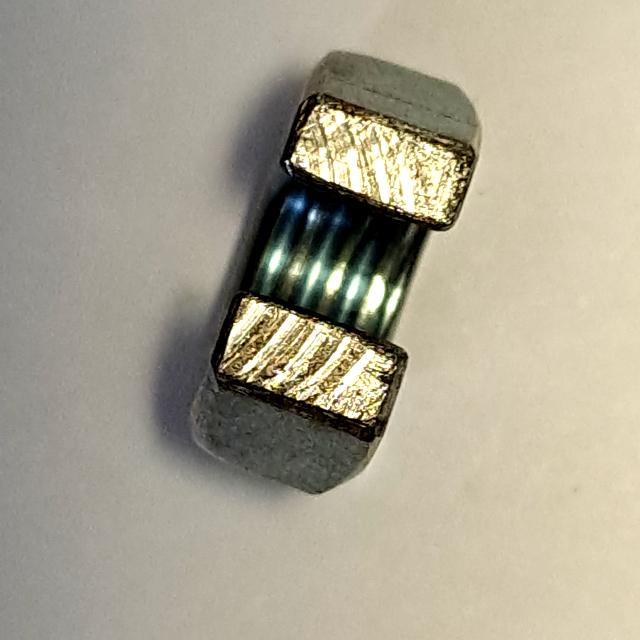Side-Fracture: (166, 34, 494, 519)
